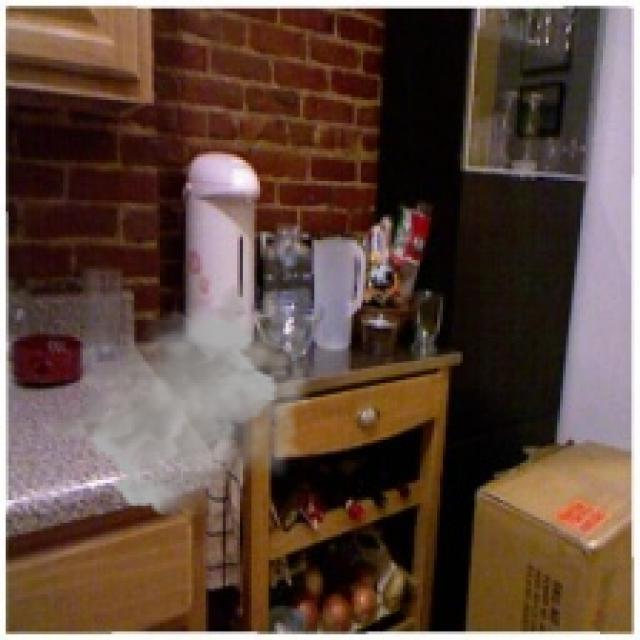Smoke: (37, 277, 314, 520)
